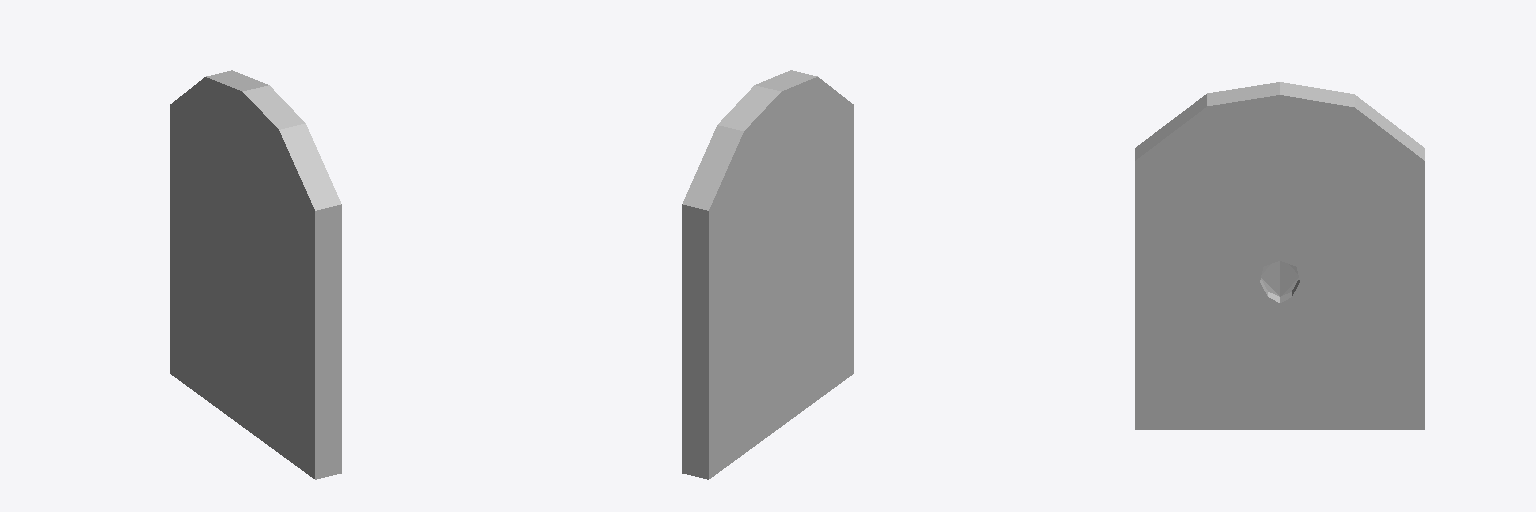
The model's file is props_grand_porte.obj.
3 views of the same model, side by side, from view 1: azimuth 30°, elevation 25°; view 2: azimuth 150°, elevation 25°; view 3: azimuth 270°, elevation 25° (orthographic).
Parts seen in each view (by area): view 1: door_mask; view 2: door_mask; view 3: door_mask.
Part boxes in pixels (x1,y1,x2,y2): door_mask: (170, 70, 341, 479); door_mask: (682, 70, 853, 479); door_mask: (1135, 82, 1424, 429).
Size of the model in its own units: 33.05 by 396 by 311.